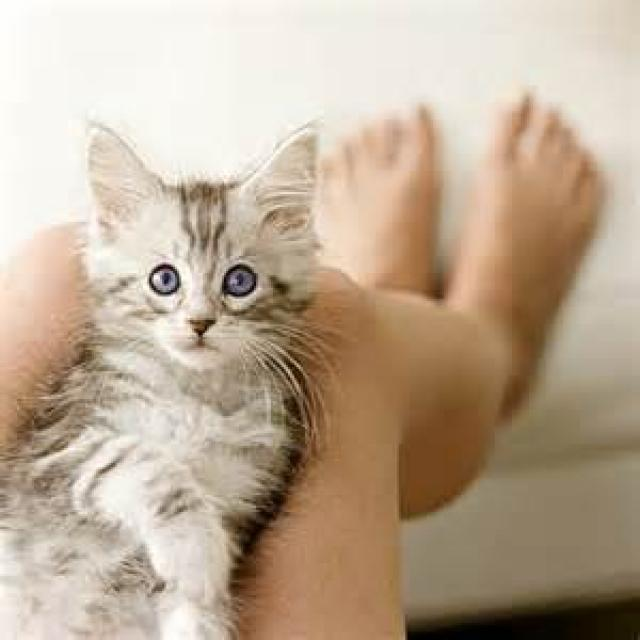KEDI: (0, 119, 322, 640)
